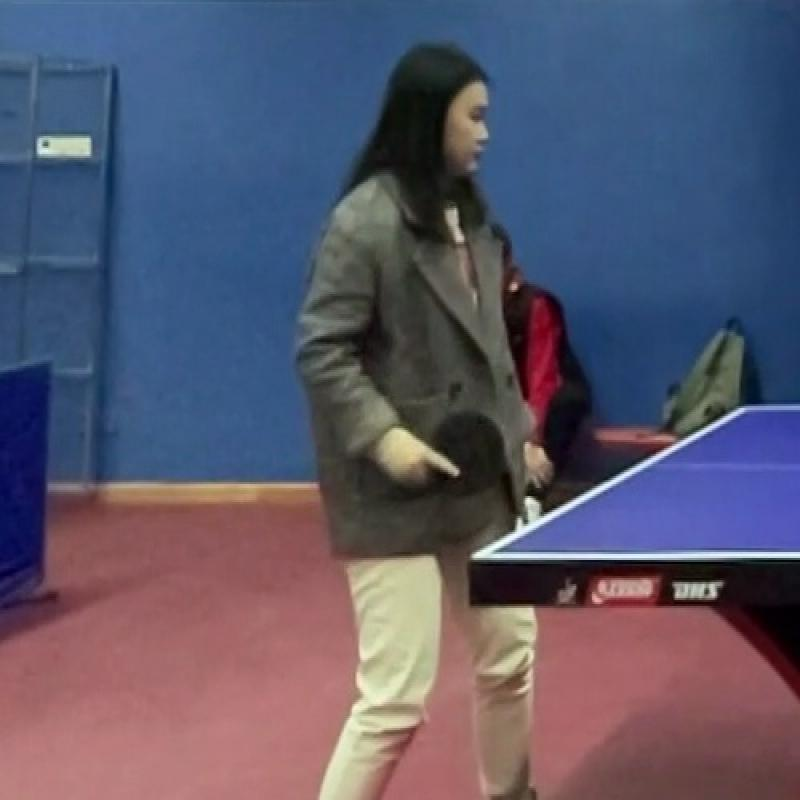bats: (414, 412, 506, 512)
